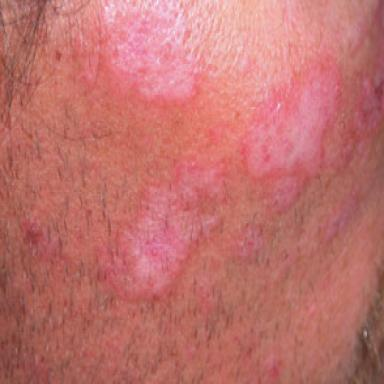Lupus-Erythematosus-Chronicus-Discoides: (101, 165, 223, 298), (244, 57, 340, 209), (103, 1, 196, 103)
